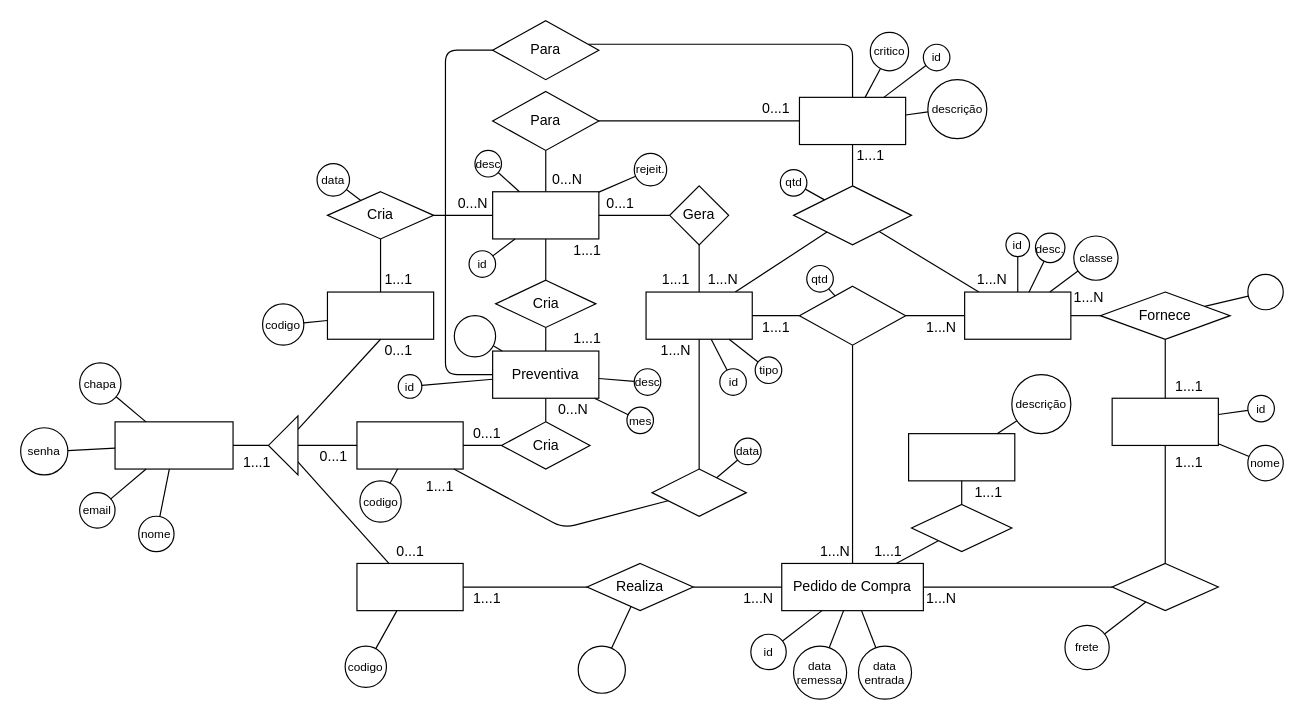
Image size: 1304x720. Some labels were removed from this diagram. The shapes that lost their labels are listed below. From the top down, each one's centre as x and y in pixels, then its label:
At [852,120]: "Maquina".
At [545,215]: "Nota".
At [852,215]: "Consumo".
At [1265,291]: "preço".
At [380,315]: "Operador".
At [474,335]: "period.".
At [698,315]: "Ordem".
At [852,315]: "Requisita".
At [1017,315]: "Material".
At [1164,421]: "Fornecedor".
At [173,445]: "Usuario".
At [409,445]: "Tecnico".
At [961,456]: "Relatorio".
At [698,492]: "Executa".
At [961,527]: "Tem".
At [409,586]: "Comprador".
At [1164,586]: "Contrata".
At [601,669]: "data criação".
